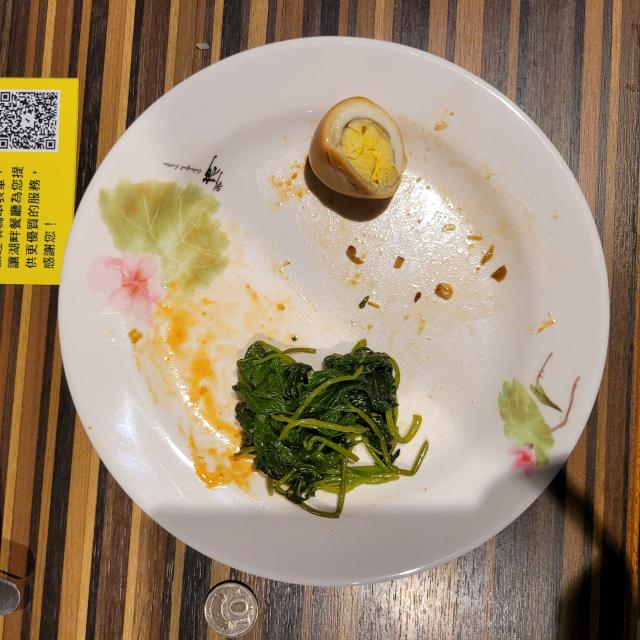coin: (204, 581, 258, 638)
soy egg: (309, 96, 406, 199)
sweet potato leaves: (232, 340, 429, 518)
